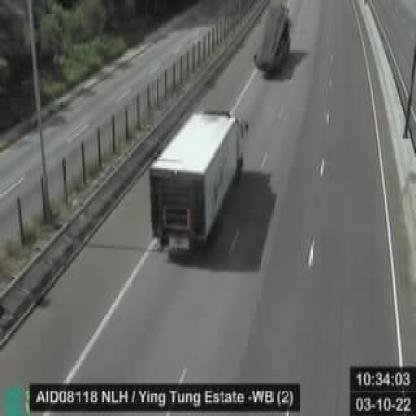Truck: (148, 108, 244, 253), (256, 3, 291, 73)
